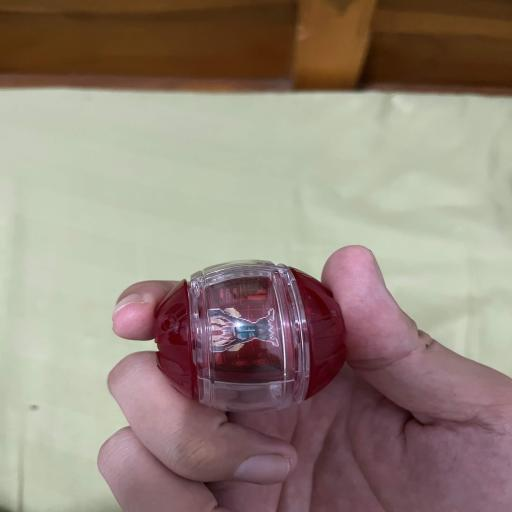capsem: (154, 260, 344, 411)
